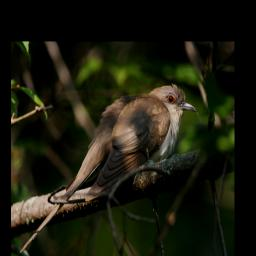Cuckoo: (19, 82, 198, 255)
